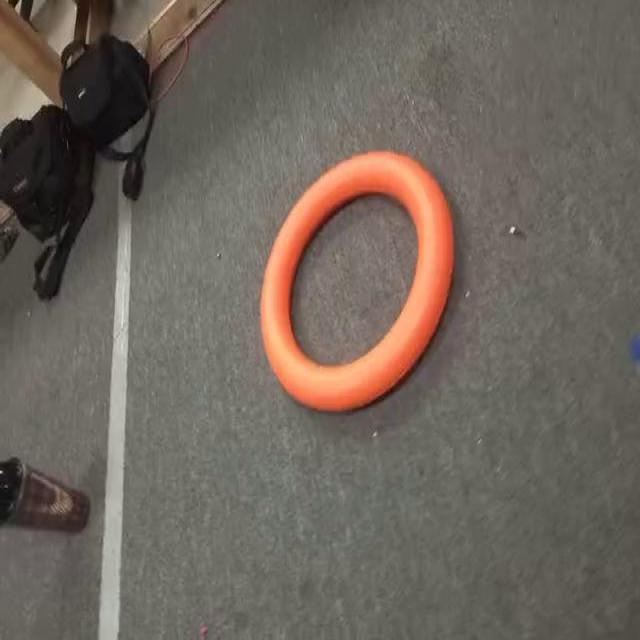note: (250, 139, 468, 424)
